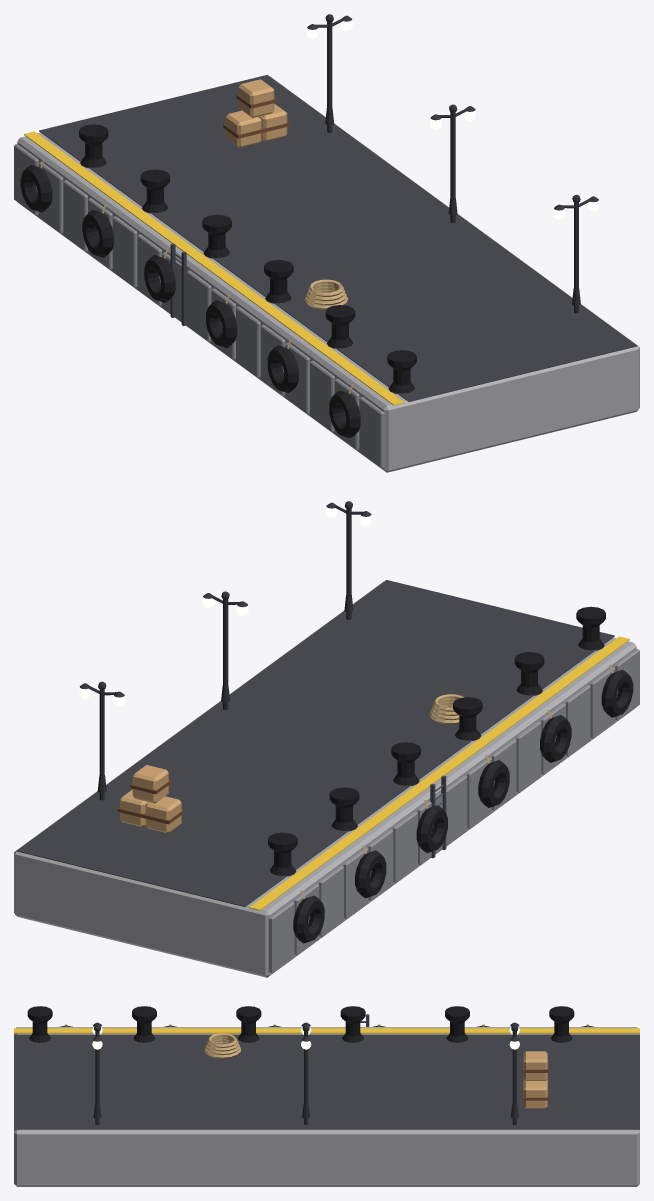
File: DockPier.fbx
3 renders of one model, top to bottom at view 1: azimuth 30°, elevation 25°; view 2: azimuth 150°, elevation 25°; view 3: azimuth 270°, elevation 25°, orthographic. The views are drawn at different scales.
Parts seen in each view (by area): view 1: DockPier_Asphalt, DockPier_Concrete, DockPier_Grey, DockPier_Rubber, DockPier_Black, DockPier_Yellow, DockPier_Charcoal, DockPier_WoodLight, DockPier_Rope, DockPier_DarkMetal, DockPier_WindowGlow; view 2: DockPier_Asphalt, DockPier_Concrete, DockPier_Grey, DockPier_Rubber, DockPier_Black, DockPier_Yellow, DockPier_Charcoal, DockPier_WoodLight, DockPier_Rope; view 3: DockPier_Asphalt, DockPier_Concrete, DockPier_Black, DockPier_Yellow, DockPier_Charcoal, DockPier_WoodLight, DockPier_Rope, DockPier_WindowGlow, DockPier_WoodDark.
Part boxes in pixels (<box>): DockPier_Asphalt: <box>39,75,637,401</box>; DockPier_Concrete: <box>17,77,639,472</box>; DockPier_Grey: <box>14,144,385,468</box>; DockPier_Rubber: <box>20,164,360,438</box>; DockPier_Black: <box>79,124,416,393</box>; DockPier_Yellow: <box>24,131,404,405</box>; DockPier_Charcoal: <box>307,14,598,313</box>; DockPier_WoodLight: <box>225,79,287,147</box>; DockPier_Rope: <box>40,159,353,394</box>; DockPier_DarkMetal: <box>170,243,186,326</box>; DockPier_WindowGlow: <box>306,21,599,219</box>; DockPier_Asphalt: <box>16,580,614,906</box>; DockPier_Concrete: <box>14,582,636,977</box>; DockPier_Grey: <box>268,649,639,973</box>; DockPier_Rubber: <box>293,669,633,943</box>; DockPier_Black: <box>268,606,605,876</box>; DockPier_Yellow: <box>249,636,629,910</box>; DockPier_Charcoal: <box>79,501,371,800</box>; DockPier_WoodLight: <box>120,765,181,833</box>; DockPier_Rope: <box>300,664,613,899</box>; DockPier_Asphalt: <box>14,1034,639,1129</box>; DockPier_Concrete: <box>14,1027,639,1186</box>; DockPier_Black: <box>27,1006,574,1042</box>; DockPier_Yellow: <box>14,1028,639,1033</box>; DockPier_Charcoal: <box>93,1022,519,1125</box>; DockPier_WoodLight: <box>523,1051,547,1108</box>; DockPier_Rope: <box>65,1024,588,1058</box>; DockPier_WindowGlow: <box>92,1027,519,1049</box>; DockPier_WoodDark: <box>523,1059,548,1100</box>.
Bounding box in the file's own units: 26 × 16.55 × 60.
